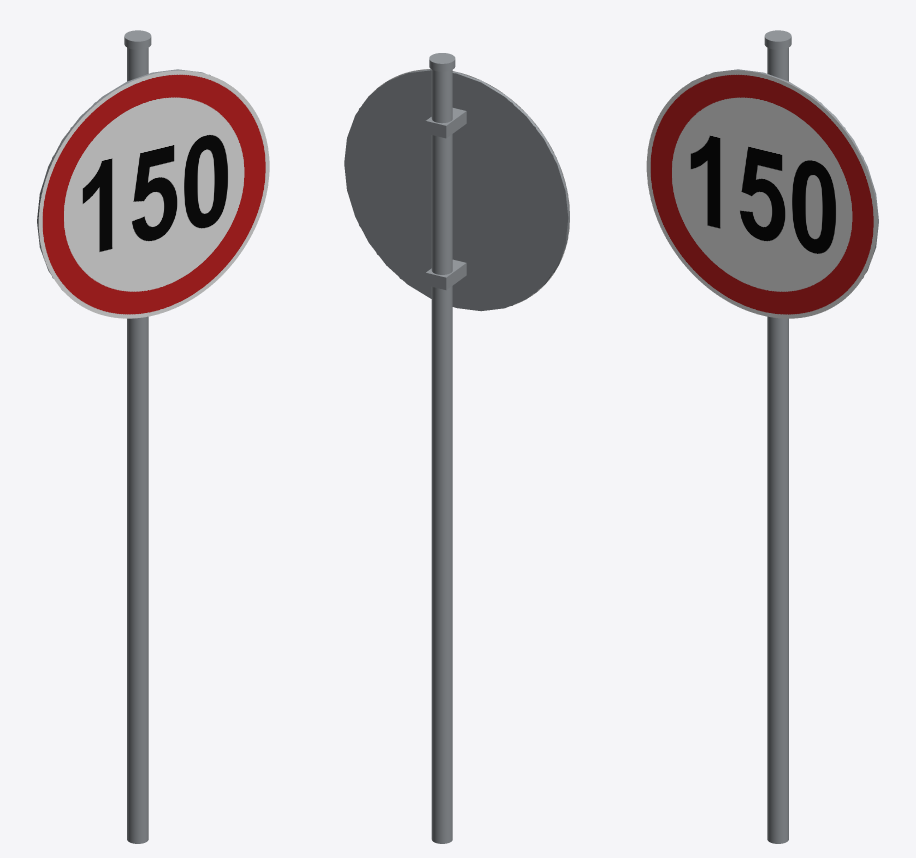
The model's file is sign_speed150kph.dae.
The picture shows the model from 3 angles, left to right: view 1: azimuth 30°, elevation 25°; view 2: azimuth 150°, elevation 25°; view 3: azimuth 330°, elevation 25°; orthographic projection. The views are drawn at different scales.
Parts seen in each view (by area): view 1: sign128, sign48, sign4; view 2: sign128, sign48, sign4; view 3: sign128, sign48, sign4.
Boxes of the visible parts, <box> form: sign128: <box>37,30,269,843</box>; sign48: <box>52,30,210,843</box>; sign4: <box>70,30,150,843</box>; sign128: <box>344,53,569,843</box>; sign48: <box>344,53,567,843</box>; sign4: <box>344,53,567,843</box>; sign128: <box>646,30,878,843</box>; sign48: <box>705,30,863,843</box>; sign4: <box>765,30,845,843</box>.
Bounding box in the file's own units: 0.9 × 0.1275 × 2.47.
2 materials, 1 textured.
